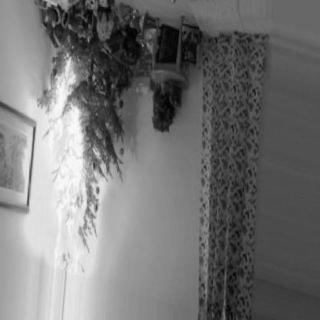Fire: (25, 62, 103, 318)
